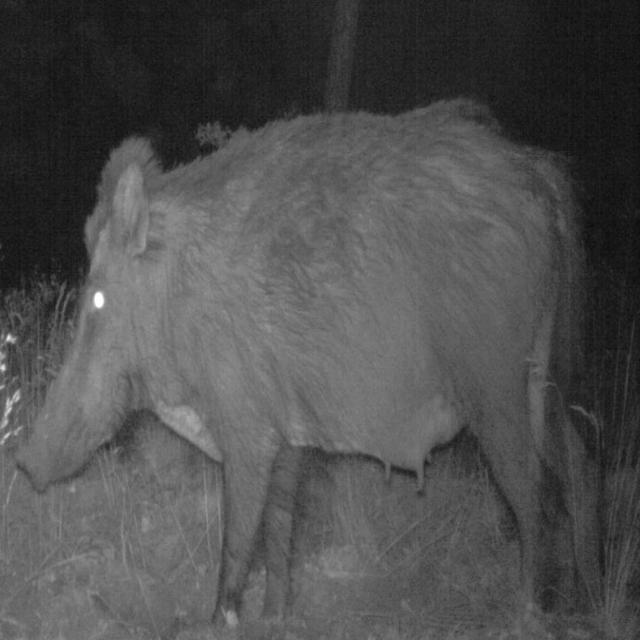pig: (20, 92, 608, 626)
